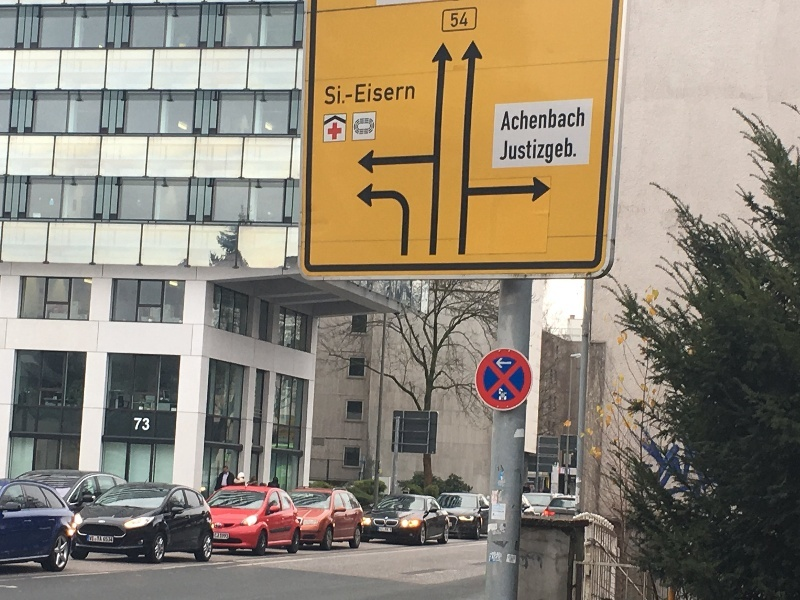text: (513, 103, 528, 135), (529, 103, 544, 135), (545, 103, 560, 135), (561, 103, 576, 135), (513, 136, 528, 166), (529, 136, 544, 166), (545, 136, 560, 166), (561, 136, 576, 166), (369, 80, 384, 105), (385, 80, 400, 105), (401, 80, 416, 105), (577, 103, 588, 135), (501, 136, 512, 166), (355, 80, 368, 105), (324, 84, 336, 108), (451, 9, 464, 29), (504, 103, 512, 135), (337, 84, 347, 108), (133, 417, 144, 434), (145, 417, 152, 434), (465, 9, 470, 29), (97, 536, 113, 542), (577, 136, 580, 166), (215, 533, 224, 538), (90, 536, 96, 542), (347, 94, 352, 100), (385, 528, 392, 532), (225, 533, 229, 538), (380, 528, 384, 532)
